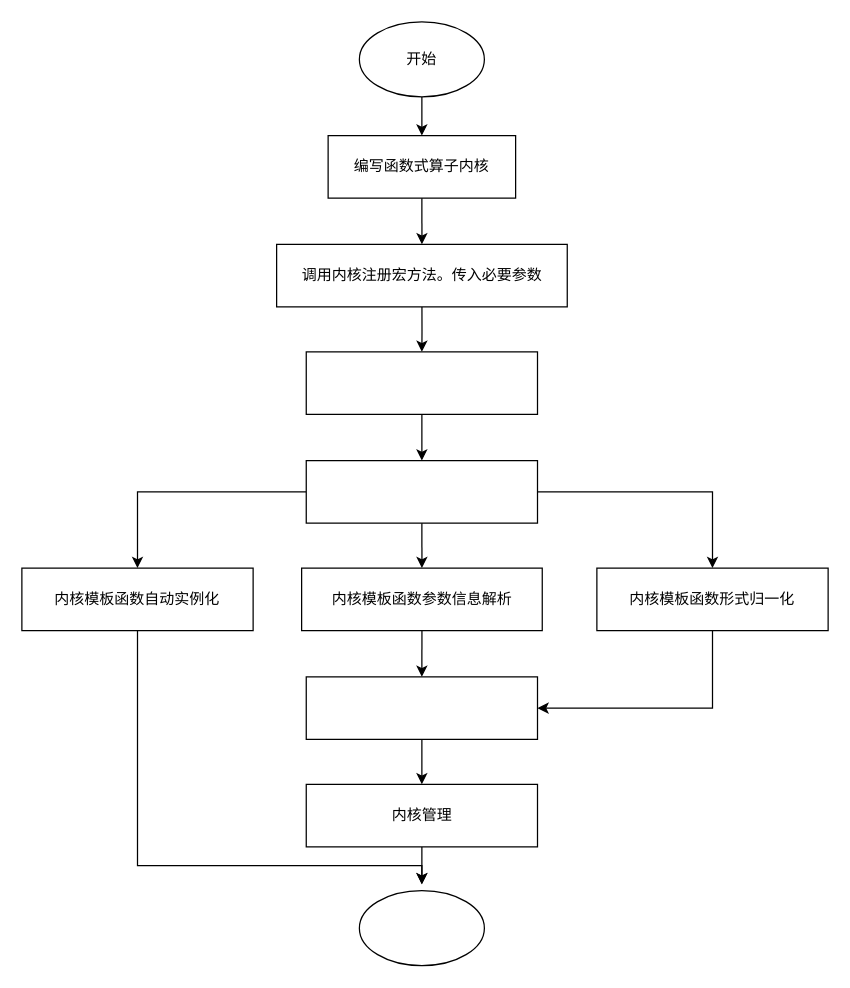
This 850x988 diagram has some shape labels left out. Each missing label, with the centre of its shape:
内核模板函数名拼接: the point at 421,491
可变宏参数列表迭代解析: the point at 421,382
实际内核注册: the point at 421,707
结束: the point at 421,927
